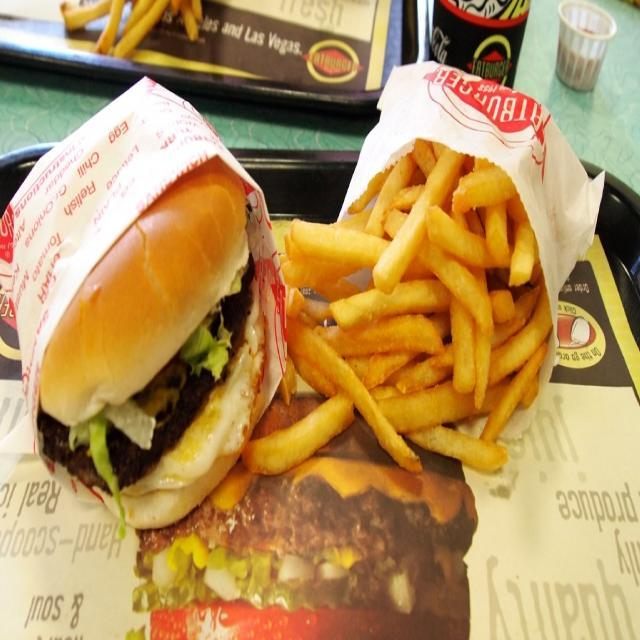Hamburger: (39, 157, 269, 544)
